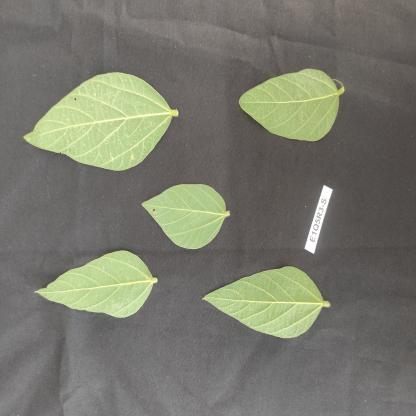label: (302, 180, 350, 254)
leaflets: (6, 69, 185, 173), (37, 237, 166, 341), (204, 257, 327, 357), (231, 58, 345, 148), (139, 184, 241, 247)
